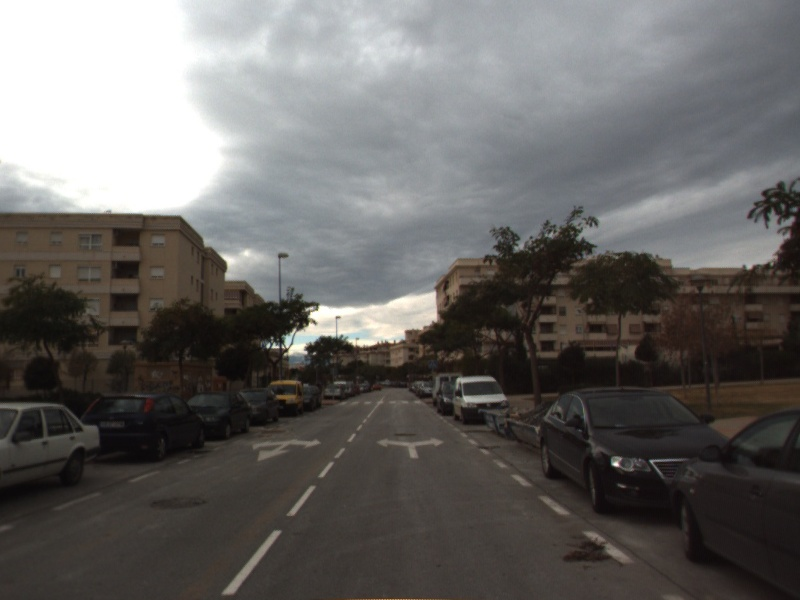LEFT_RIGHT: (375, 435, 447, 460)
